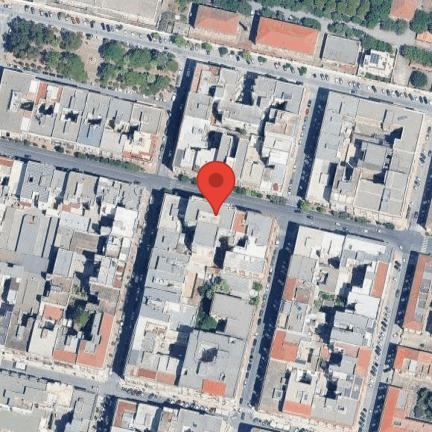area_open: (1, 2, 432, 109), (357, 253, 404, 432), (237, 229, 283, 408), (119, 380, 233, 415), (284, 87, 317, 196), (298, 97, 326, 195), (407, 124, 432, 223), (255, 418, 344, 432), (394, 372, 429, 405), (177, 193, 196, 250), (153, 111, 170, 169), (419, 158, 432, 227), (340, 131, 361, 165), (77, 251, 100, 280), (96, 399, 115, 432), (170, 326, 190, 356), (398, 331, 432, 347), (215, 237, 231, 269)
built: (0, 154, 147, 383), (120, 192, 276, 406), (256, 222, 393, 424), (173, 63, 304, 194), (307, 92, 426, 224), (0, 70, 164, 164), (0, 369, 102, 432), (106, 395, 225, 432), (17, 0, 158, 27), (398, 250, 432, 334), (256, 14, 318, 56), (378, 384, 430, 432), (319, 32, 360, 66), (196, 4, 239, 35), (393, 348, 431, 379), (359, 51, 396, 78), (390, 0, 421, 23)
vegetation_low: (0, 137, 402, 232), (3, 17, 187, 100), (210, 0, 410, 53), (392, 43, 432, 93), (193, 276, 228, 332), (154, 0, 198, 38), (69, 283, 100, 328), (411, 386, 432, 421), (314, 291, 347, 307), (73, 308, 89, 332)
